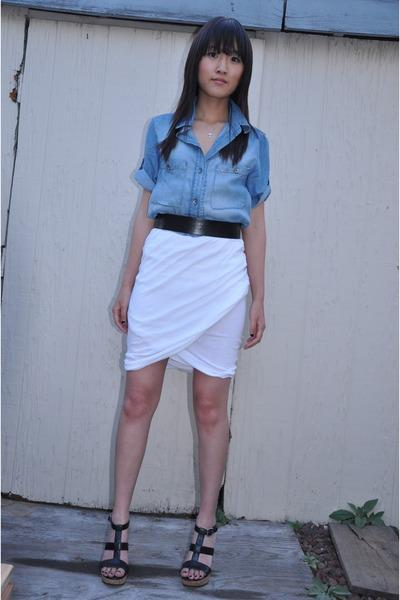shirt: (134, 108, 270, 221)
shoe: (84, 492, 240, 575)
skirt: (125, 228, 248, 377)
